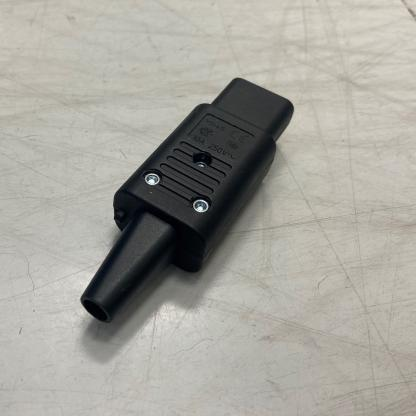SP0000006: (18, 16, 348, 399)
